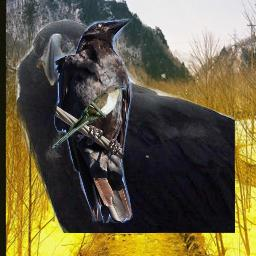Crow: (13, 19, 235, 233), (54, 17, 133, 223)
Cuckoo: (49, 84, 128, 151)
